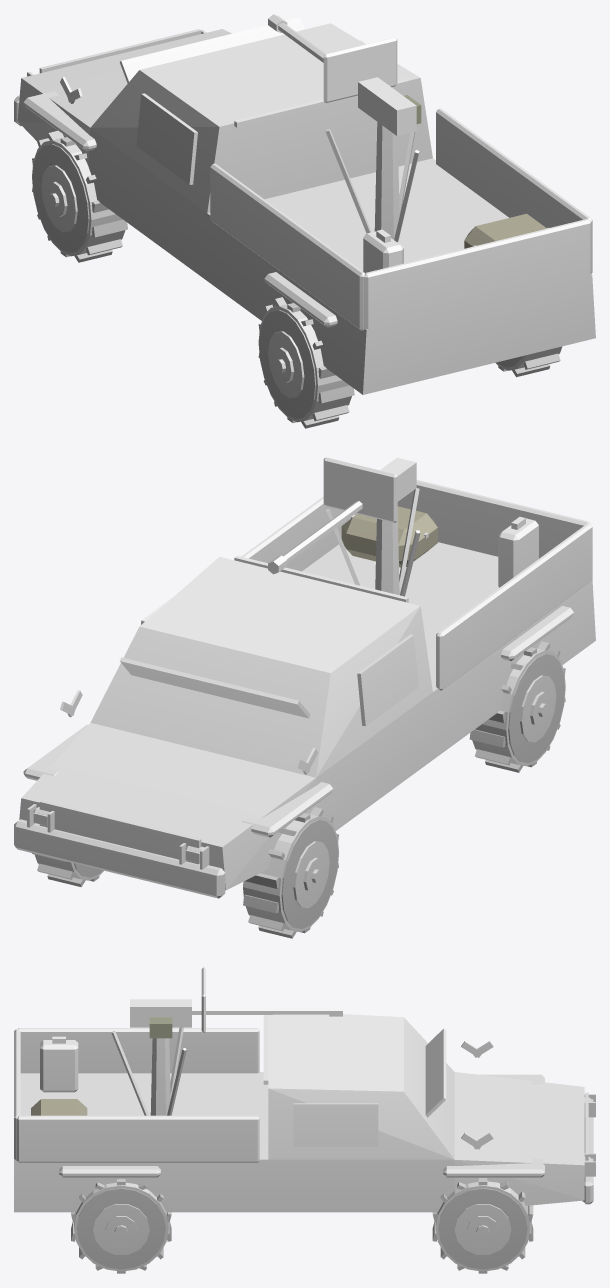
File: technical_red.glb
The picture shows the model from 3 angles, top to bottom: view 1: azimuth 30°, elevation 25°; view 2: azimuth 150°, elevation 25°; view 3: azimuth 270°, elevation 25°; orthographic projection. The views are drawn at different scales.
Visible parts, largest first — view 1: body, wheel_0, wheel_2, barrel, turret, wheel_3; view 2: body, wheel_0, wheel_2, barrel, turret, wheel_1; view 3: body, wheel_1, wheel_3, barrel, turret.
Part boxes in pixels (x1,y1,x2,y2): body: (14, 17, 595, 394); wheel_0: (32, 130, 127, 262); wheel_2: (258, 297, 354, 428); barrel: (268, 14, 421, 135); turret: (325, 122, 419, 242); wheel_3: (495, 346, 562, 377); body: (14, 479, 595, 898); wheel_0: (243, 807, 339, 938); wheel_2: (469, 641, 565, 772); barrel: (268, 457, 416, 574); turret: (325, 488, 420, 596); wheel_1: (32, 853, 103, 887); body: (14, 1014, 595, 1212); wheel_1: (432, 1178, 533, 1273); wheel_3: (71, 1179, 171, 1273); barrel: (130, 967, 342, 1038); turret: (111, 1027, 186, 1115).
Bounding box in the file's own units: 2.17 × 2.4 × 5.15.
